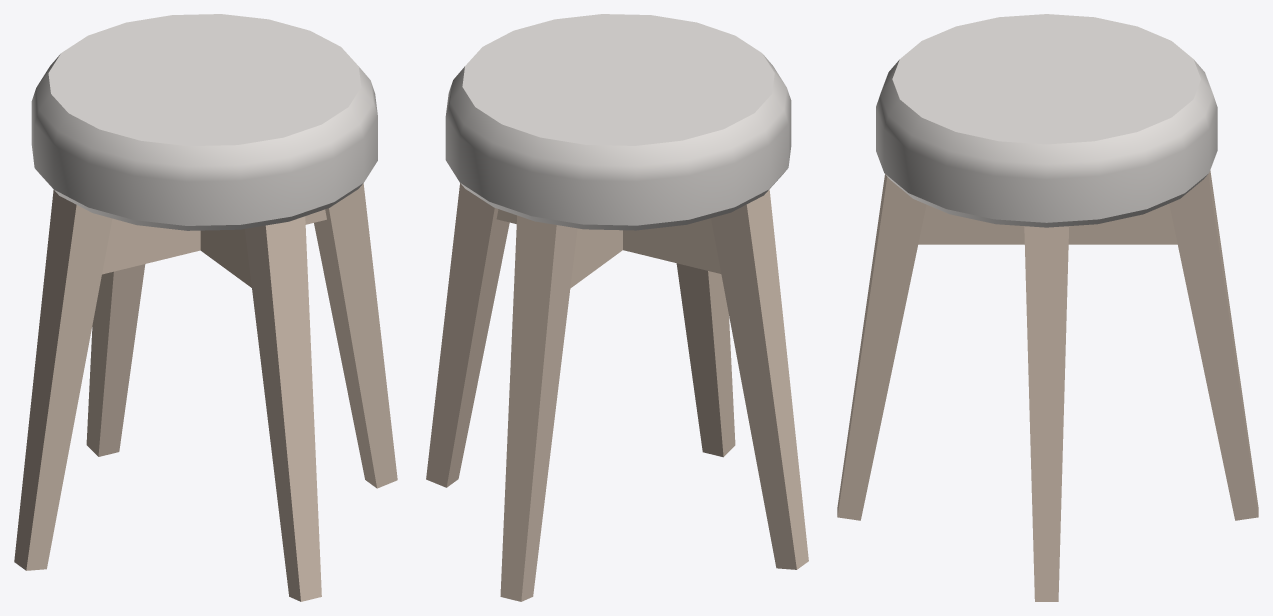
The model's file is isu-1.fbx.
3 renders of one model, left to right at view 1: azimuth 30°, elevation 25°; view 2: azimuth 150°, elevation 25°; view 3: azimuth 270°, elevation 25°, orthographic.
Parts seen in each view (by area): view 1: pCube7; view 2: pCube7; view 3: pCube7.
Part boxes in pixels (box(x1,y1,x2,y2)): pCube7: box(14, 14, 397, 601); pCube7: box(426, 14, 808, 601); pCube7: box(837, 14, 1258, 601).
Size of the model in its own units: 5 by 5.72 by 5.
